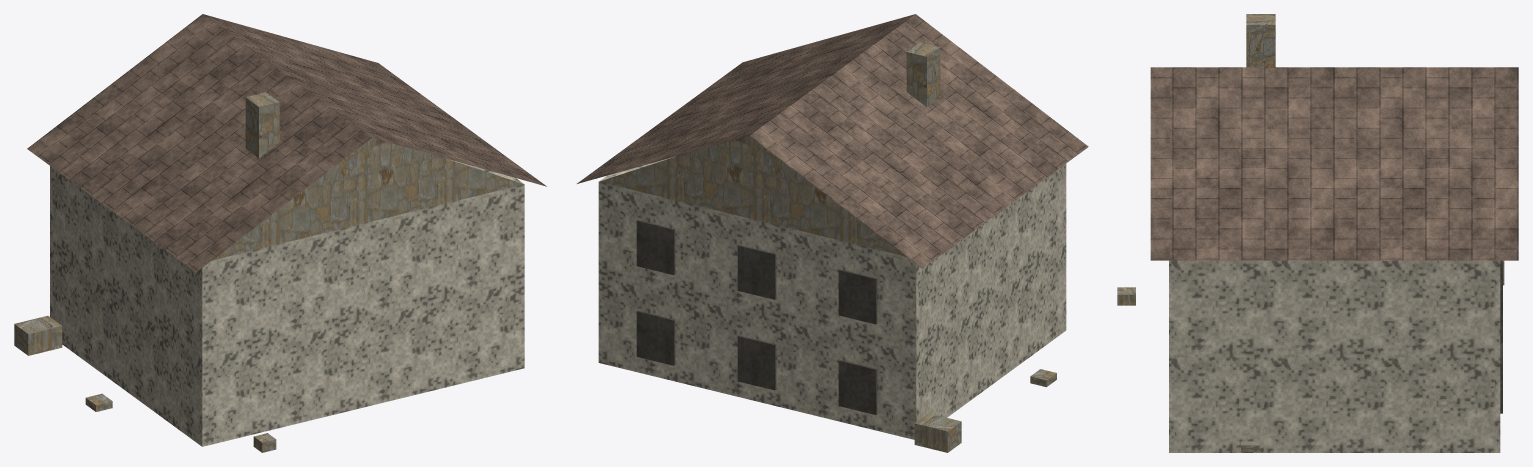
The model's file is Strategic_House_1.fbx.
3 renders of one model, left to right at view 1: azimuth 30°, elevation 25°; view 2: azimuth 150°, elevation 25°; view 3: azimuth 270°, elevation 25°, orthographic. The views are drawn at different scales.
Parts seen in each view (by area): view 1: Strategic_House_1; view 2: Strategic_House_1; view 3: Strategic_House_1.
Boxes of the visible parts, left/top/right/bottom form: Strategic_House_1: left=14, top=14, right=546, bottom=452; Strategic_House_1: left=577, top=14, right=1088, bottom=452; Strategic_House_1: left=1117, top=14, right=1518, bottom=452.
Size of the model in its own units: 1315 by 967 by 1091.
